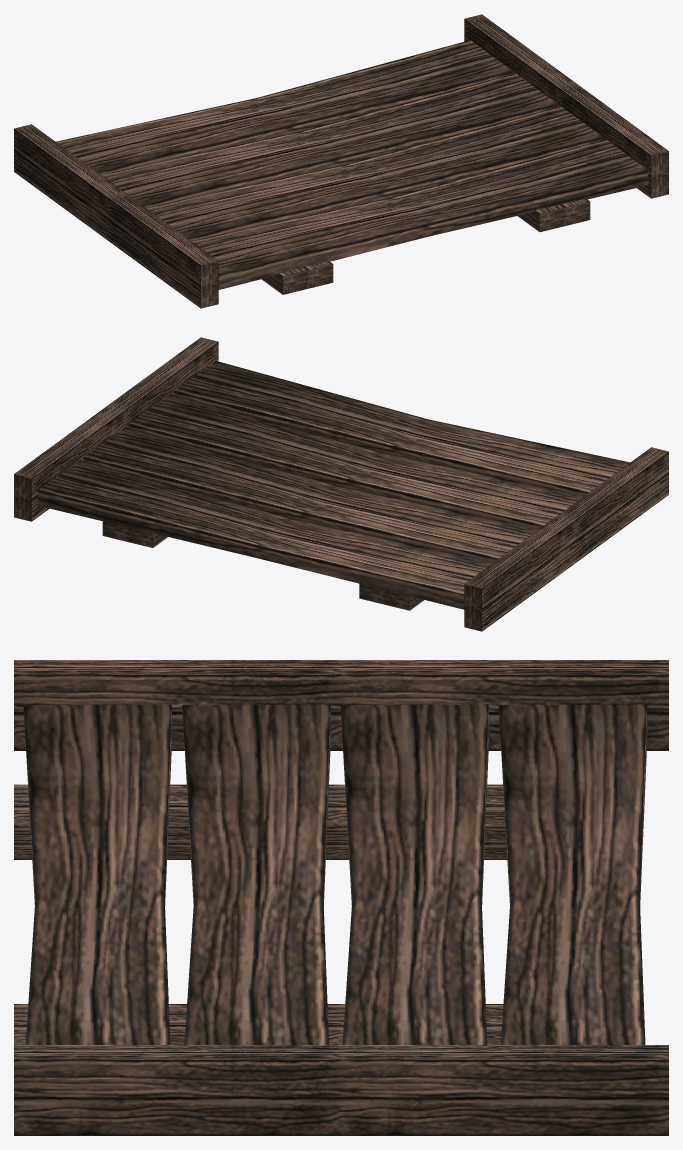
File: CB_LOOKOUT_PLATFORM02.fbx
The picture shows the model from 3 angles, top to bottom: view 1: azimuth 30°, elevation 25°; view 2: azimuth 150°, elevation 25°; view 3: azimuth 270°, elevation 25°; orthographic projection. The views are drawn at different scales.
Visible parts, largest first — view 1: CB_LOOKOUT_PLATFORM02; view 2: CB_LOOKOUT_PLATFORM02; view 3: CB_LOOKOUT_PLATFORM02.
Part boxes in pixels (x1=…): CB_LOOKOUT_PLATFORM02: x1=14, y1=14, x2=668, y2=308; CB_LOOKOUT_PLATFORM02: x1=14, y1=337, x2=668, y2=631; CB_LOOKOUT_PLATFORM02: x1=14, y1=660, x2=668, y2=1135.
Size of the model in its own units: 26035 by 2635 by 18013.
Materials: 1 (1 with a texture image).
